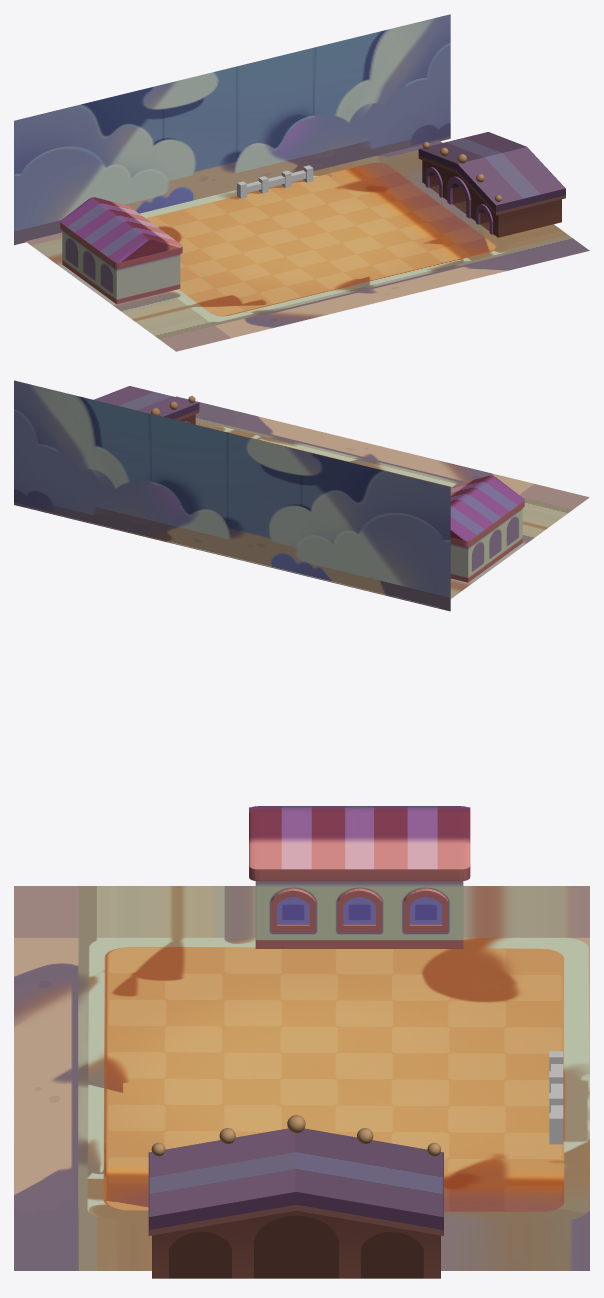
Rendered from 宝宝巴士-主框架-推送地图-游园会.FBX.
3 views of the same model, one above another, from view 1: azimuth 30°, elevation 25°; view 2: azimuth 150°, elevation 25°; view 3: azimuth 270°, elevation 25° (orthographic). The views are drawn at different scales.
Visible parts, largest first — view 1: 宝宝巴士-主框架-推送地图-游园会; view 2: 宝宝巴士-主框架-推送地图-游园会; view 3: 宝宝巴士-主框架-推送地图-游园会.
Boxes of the visible parts, x1=… form: 宝宝巴士-主框架-推送地图-游园会: x1=14, y1=14, x2=589, y2=351; 宝宝巴士-主框架-推送地图-游园会: x1=14, y1=380, x2=589, y2=611; 宝宝巴士-主框架-推送地图-游园会: x1=14, y1=806, x2=589, y2=1278.
Size of the model in its own units: 2087 by 569 by 1250.
